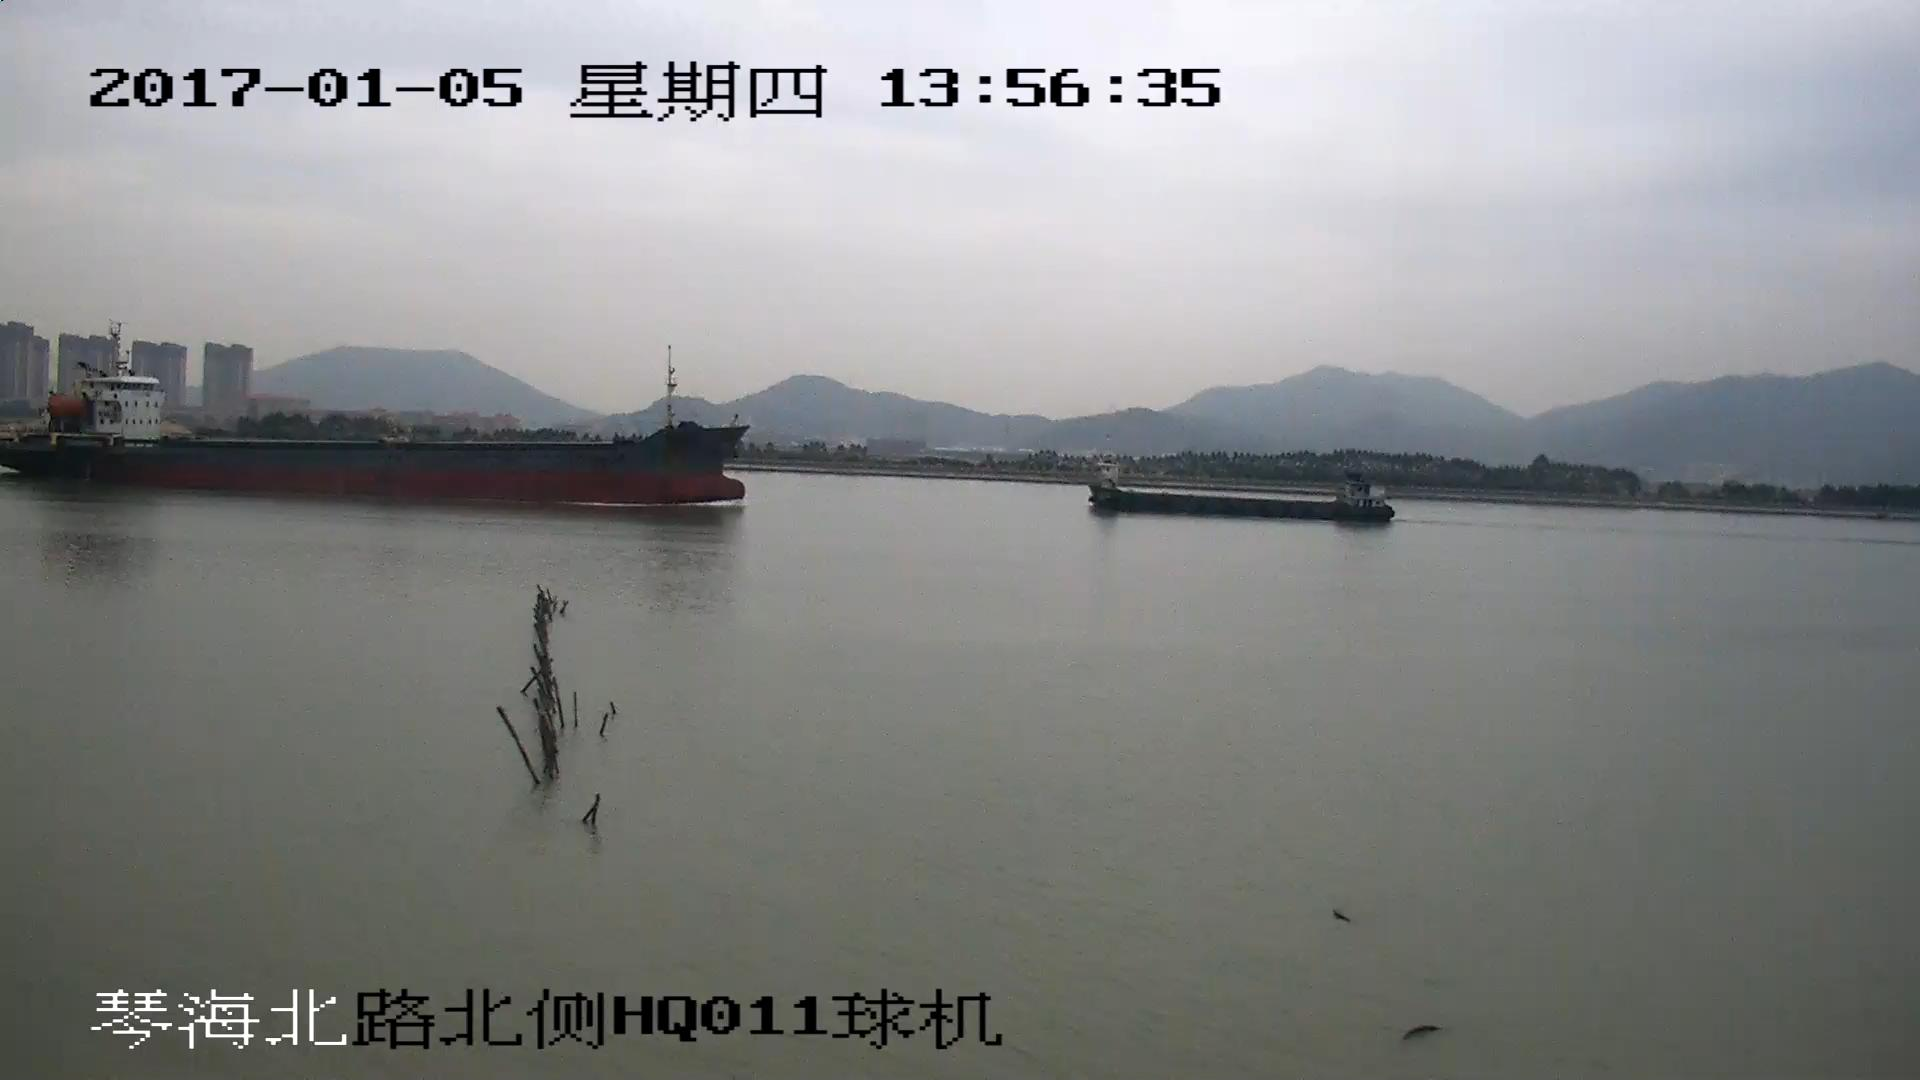general cargo ship: (1, 330, 743, 504), (1088, 461, 1396, 526)
